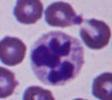N: (30, 30, 84, 86)
